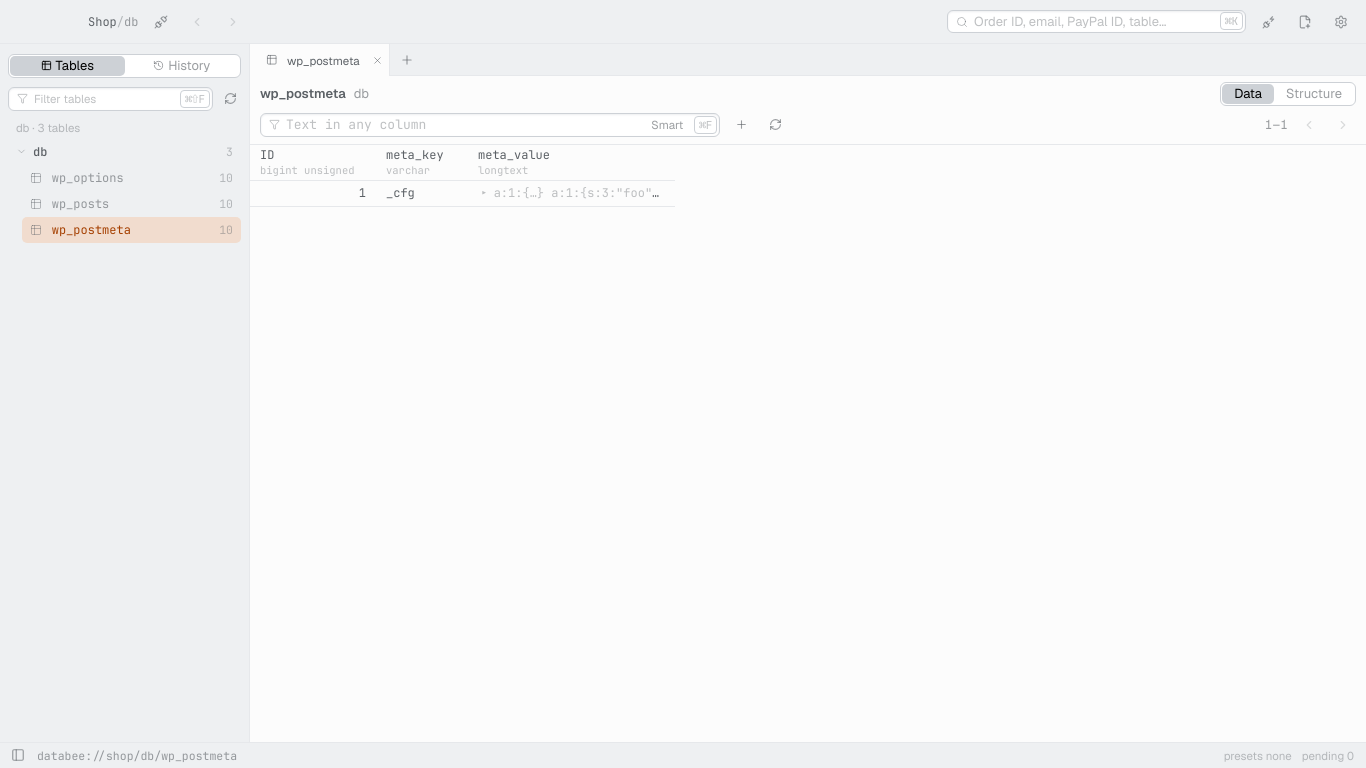
Test case: value column of a table tab › reading the value again › fetches the full text of a long text cell from the new result, at row 0
Click the text "_cfg" at x=400, y=193, box [386, 185, 415, 201]
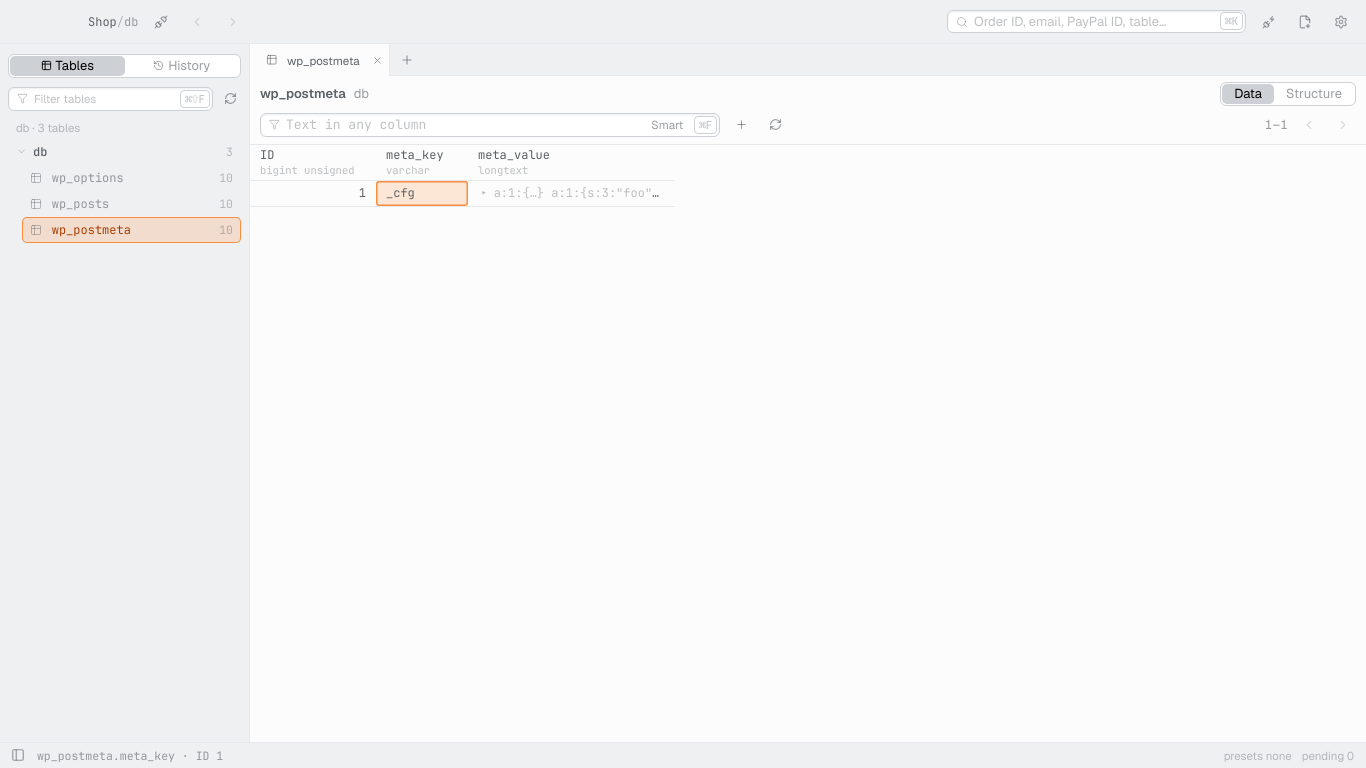
Press Arrowright Enter
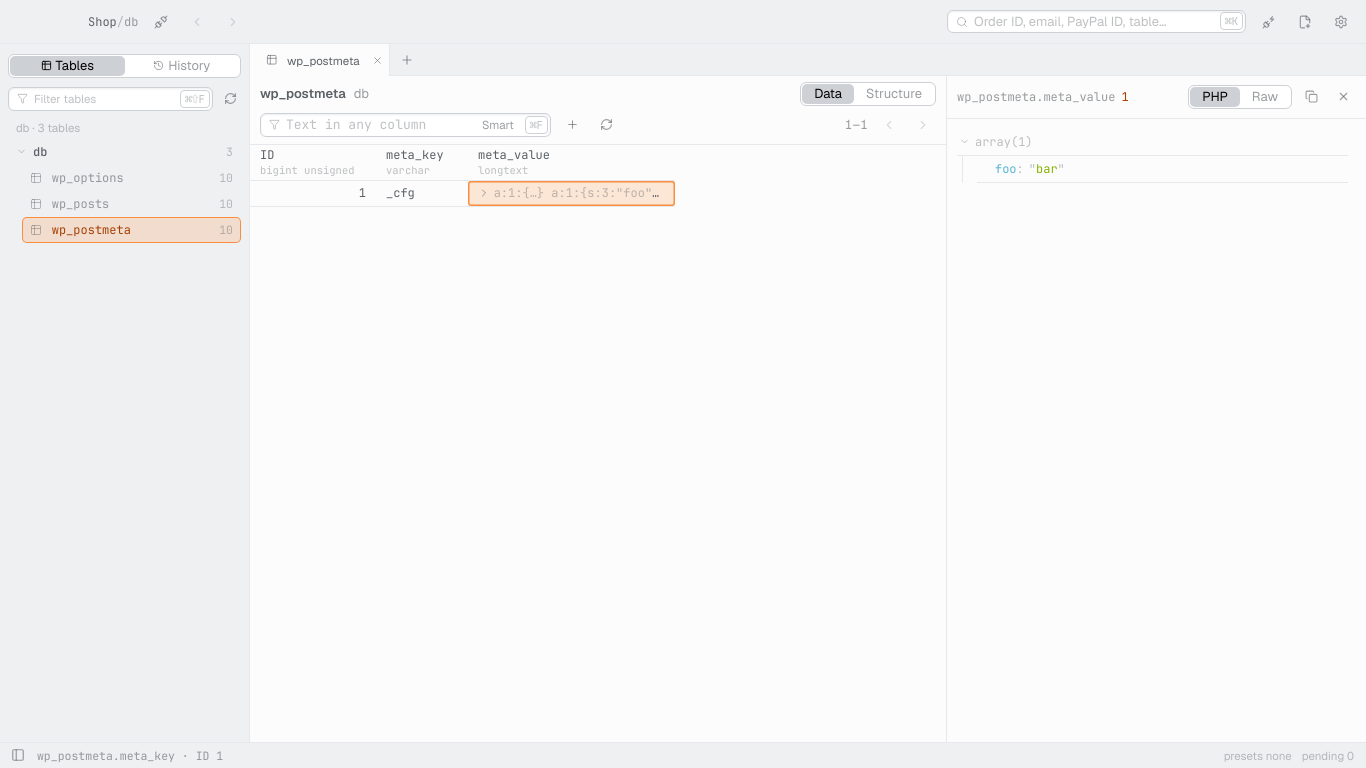
Now the text "bar" is shown, box [1036, 161, 1058, 177]
Click the button named "Reload" at x=606, y=125, box [593, 112, 619, 138]
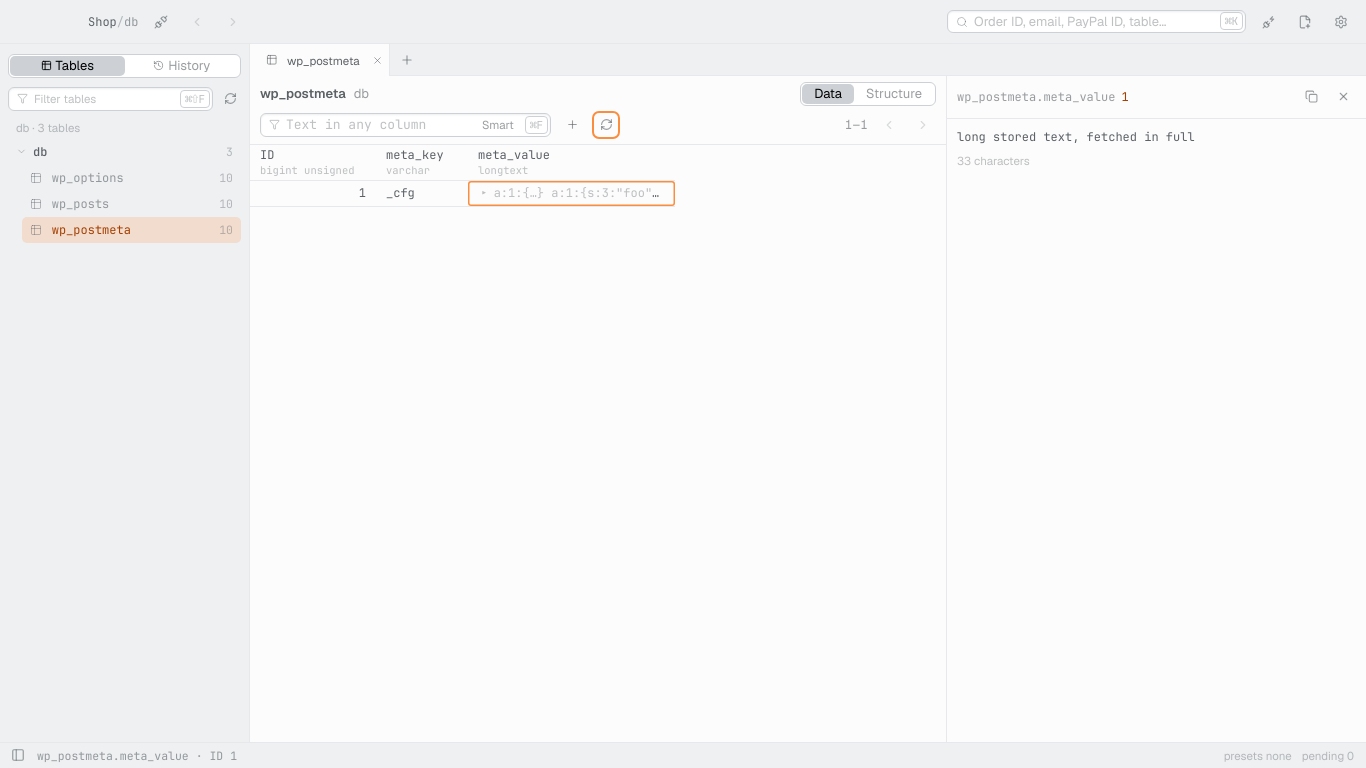
Now the text "long stored text, fetched in full" is shown, box [957, 129, 1195, 145]
